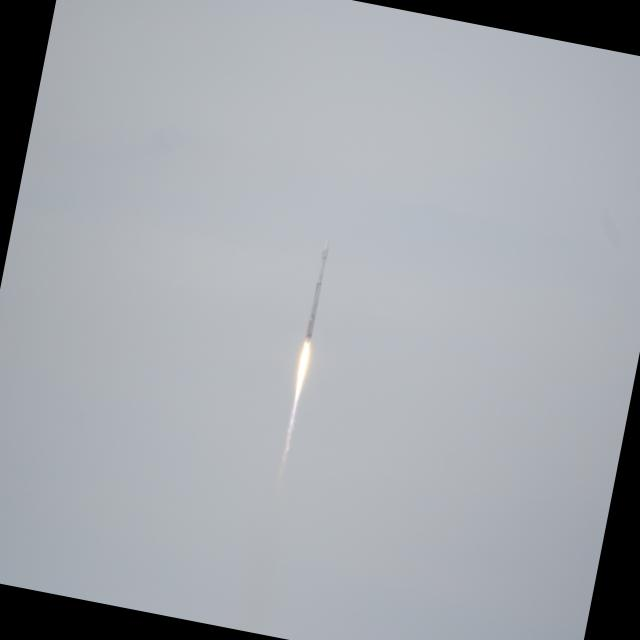rocket: (286, 236, 339, 431)
